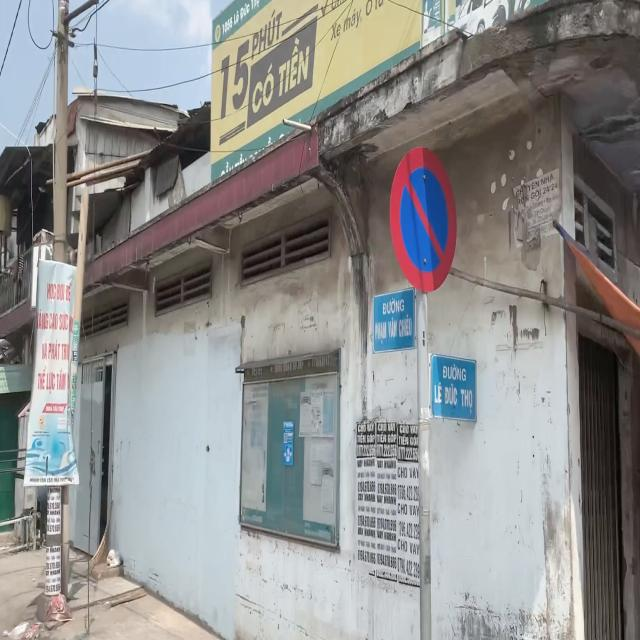Cam do: (389, 144, 457, 294)
